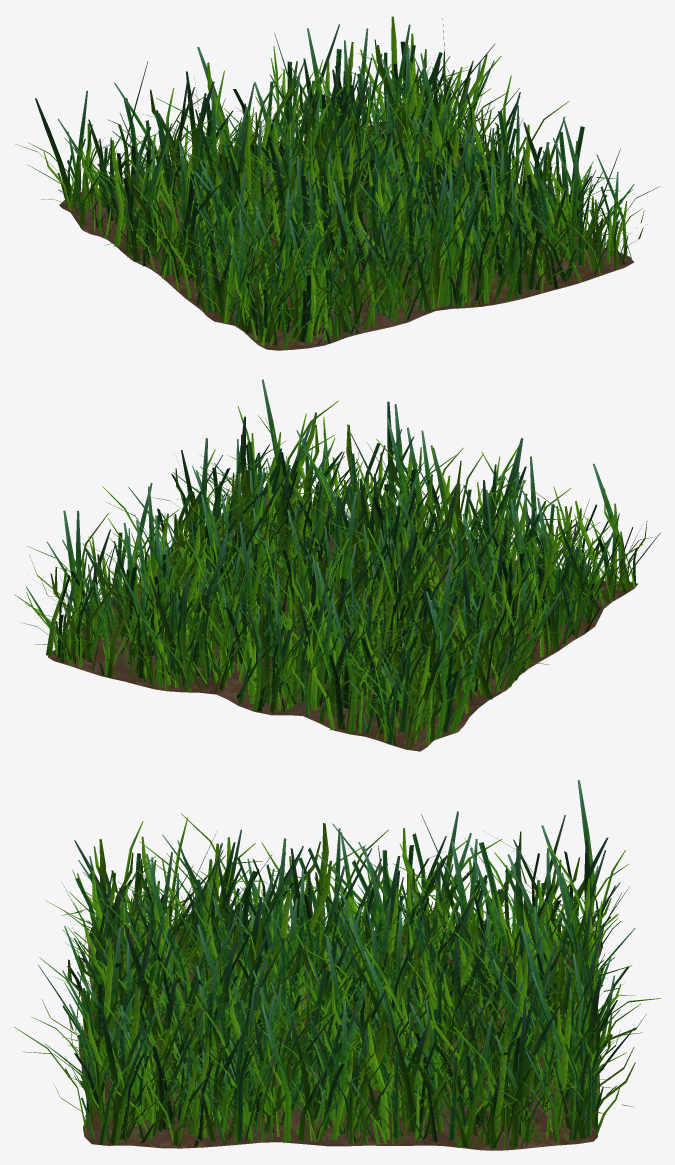
File: grass.obj
3 renders of one model, top to bottom at view 1: azimuth 30°, elevation 25°; view 2: azimuth 150°, elevation 25°; view 3: azimuth 270°, elevation 25°, orthographic. The views are drawn at different scales.
Parts seen in each view (by area): view 1: Ground_Plane, grass_1.383_Plane.001, grass_1.493_Plane.001, grass_1.496_Plane.001, grass_1.008_Plane.001, grass_1.649_Plane.001; view 2: Ground_Plane, grass_1.017_Plane.001, grass_1.108_Plane.001; view 3: Ground_Plane, grass_3.697_Plane.003, grass_1.723_Plane.001, grass_1.738_Plane.001, grass_3.733_Plane.003, grass_1.749_Plane.001, grass_1.529_Plane.001, grass_1.449_Plane.001, grass_3.742_Plane.003, grass_1.726_Plane.001, grass_4.714_Plane.004, grass_1.733_Plane.001 (+1 smaller).
Part boxes in pixels (x1,y1,x2,y2): Ground_Plane: (59,116,634,350); grass_1.383_Plane.001: (441,172,453,305); grass_1.493_Plane.001: (504,178,520,301); grass_1.496_Plane.001: (488,163,495,292); grass_1.008_Plane.001: (35,98,72,201); grass_1.649_Plane.001: (568,154,577,269); Ground_Plane: (48,496,637,751); grass_1.017_Plane.001: (331,598,357,733); grass_1.108_Plane.001: (449,629,482,733); Ground_Plane: (78,926,602,1150); grass_3.697_Plane.003: (551,1001,571,1125); grass_1.723_Plane.001: (261,1004,290,1142); grass_1.738_Plane.001: (461,1016,492,1147); grass_3.733_Plane.003: (367,1023,390,1140); grass_1.749_Plane.001: (515,997,526,1135); grass_1.529_Plane.001: (454,936,465,1064); grass_1.449_Plane.001: (123,924,161,1042); grass_3.742_Plane.003: (487,1029,507,1145); grass_1.726_Plane.001: (335,1000,347,1133); grass_4.714_Plane.004: (235,1050,250,1143); grass_1.733_Plane.001: (388,1010,415,1132).
Bounding box in the file's own units: 298 × 83.55 × 309.
